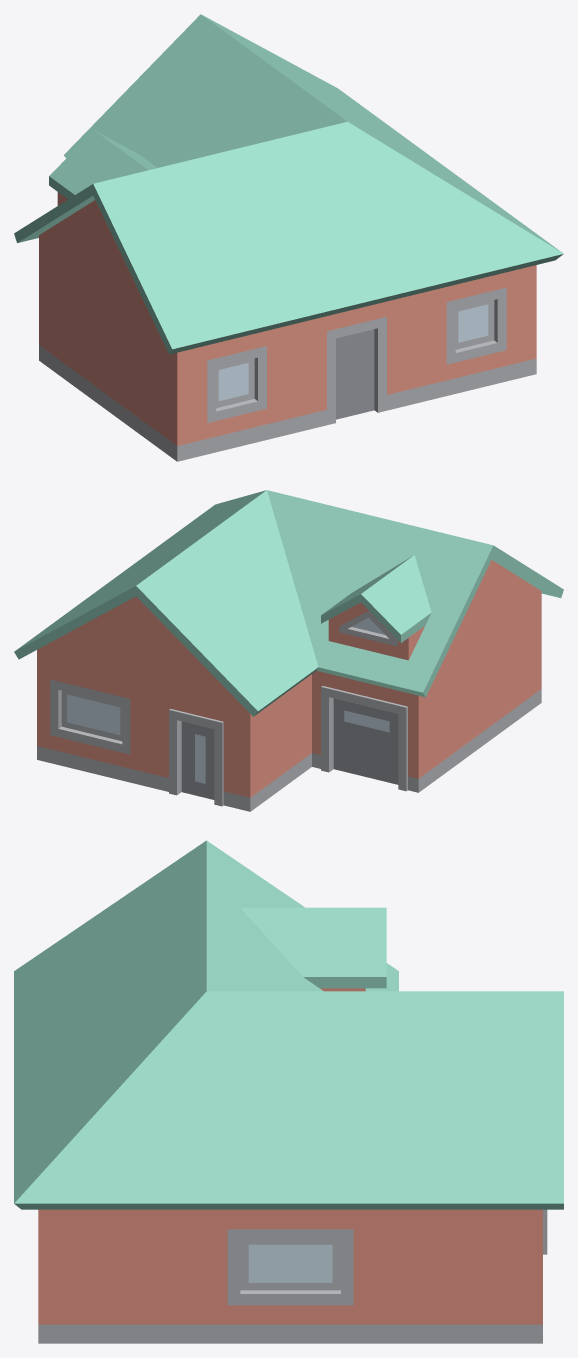
File: house.glb
The picture shows the model from 3 angles, top to bottom: view 1: azimuth 30°, elevation 25°; view 2: azimuth 150°, elevation 25°; view 3: azimuth 270°, elevation 25°; orthographic projection. The views are drawn at different scales.
Parts seen in each view (by area): view 1: house_type05; view 2: house_type05; view 3: house_type05.
Part boxes in pixels (left/top/right/bottom): house_type05: left=14, top=14, right=563, bottom=461; house_type05: left=14, top=490, right=563, bottom=811; house_type05: left=14, top=840, right=563, bottom=1343.
Size of the model in its own units: 2 by 1.13 by 2.
